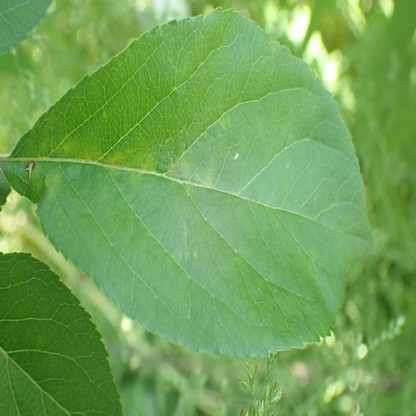scab: (129, 151, 154, 186), (169, 158, 193, 193), (102, 151, 125, 173), (45, 173, 60, 203), (199, 168, 215, 188), (61, 141, 77, 160), (80, 152, 98, 165)
